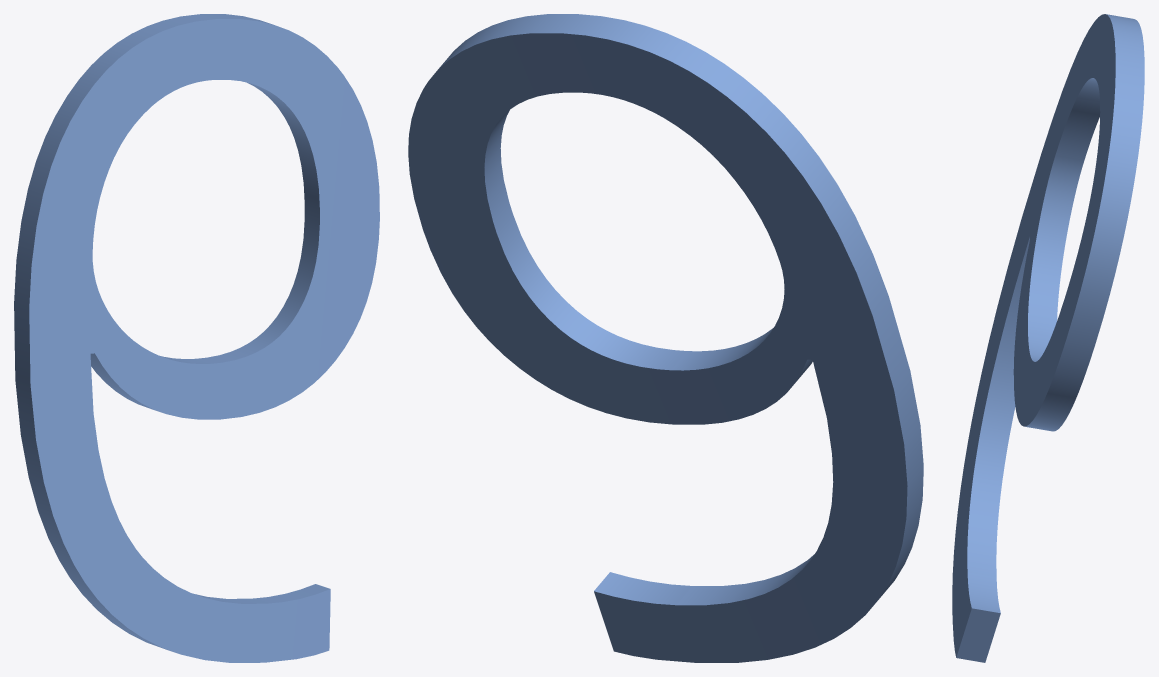
Rendered from New_Number_6.gltf.
3 renders of one model, left to right at view 1: azimuth 30°, elevation 25°; view 2: azimuth 150°, elevation 25°; view 3: azimuth 270°, elevation 25°, orthographic. The views are drawn at different scales.
Visible parts, largest first — view 1: Part 492; view 2: Part 492; view 3: Part 492.
Part boxes in pixels (x1,y1,x2,y2): Part 492: (14, 14, 379, 662); Part 492: (408, 14, 923, 662); Part 492: (952, 14, 1144, 662).
Size of the model in its own units: 0.00377 by 0.00565 by 0.00165.
